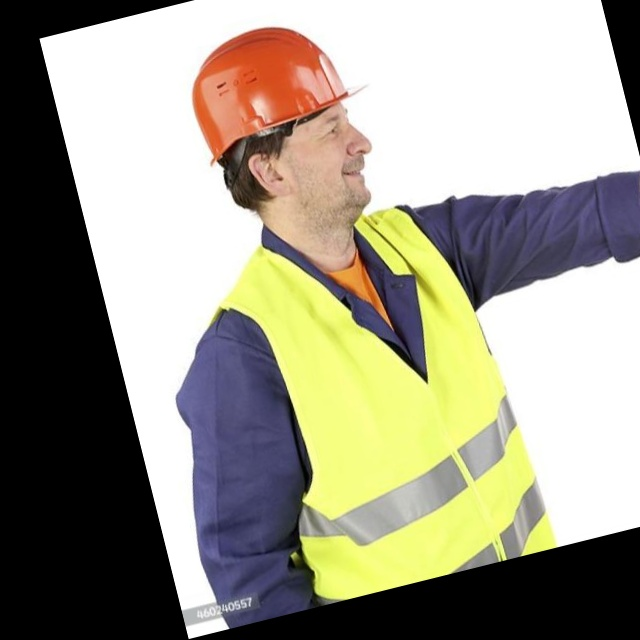Con_Casco: (177, 11, 389, 250)
Con_Chaleco: (192, 191, 543, 616)
